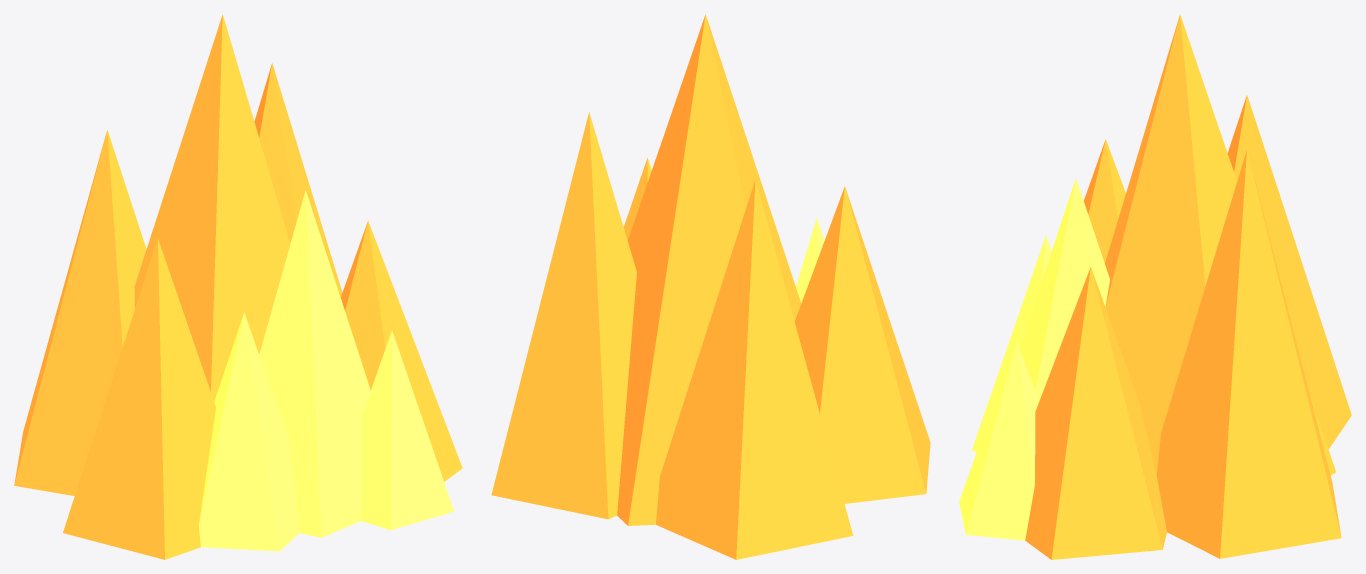
File: flames.glb
3 views of the same model, side by side, from view 1: azimuth 30°, elevation 25°; view 2: azimuth 150°, elevation 25°; view 3: azimuth 270°, elevation 25° (orthographic).
Parts seen in each view (by area): view 1: flames; view 2: flames; view 3: flames.
Part boxes in pixels (x1,y1,x2,y2): flames: (14,14,462,559); flames: (491,14,930,559); flames: (959,14,1351,559).
Bounding box in the file's own units: 0.2887 × 0.34 × 0.264.
